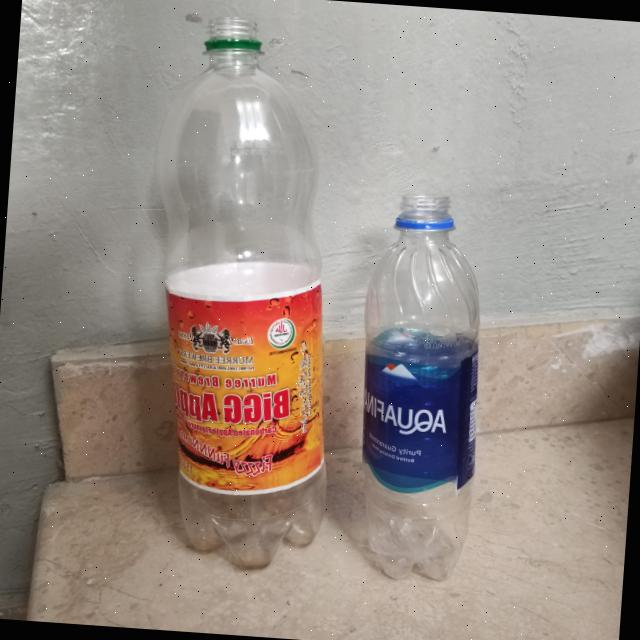bottle: (124, 11, 340, 568), (332, 186, 496, 582)
label: (160, 262, 326, 505), (352, 324, 486, 502)
